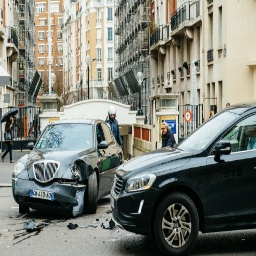sv_licence_plate: (29, 187, 54, 200)
